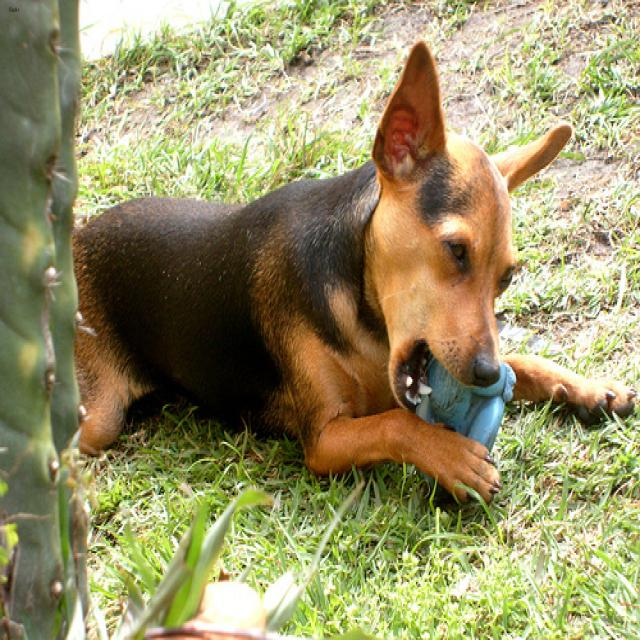dog-miniature_pinscher: (64, 34, 637, 524)
